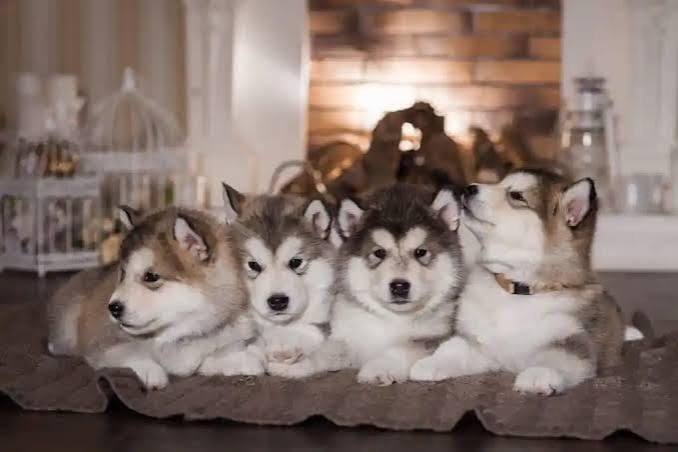puppy-dog: (404, 165, 629, 395), (261, 184, 467, 387), (46, 204, 255, 391), (159, 182, 341, 378)
